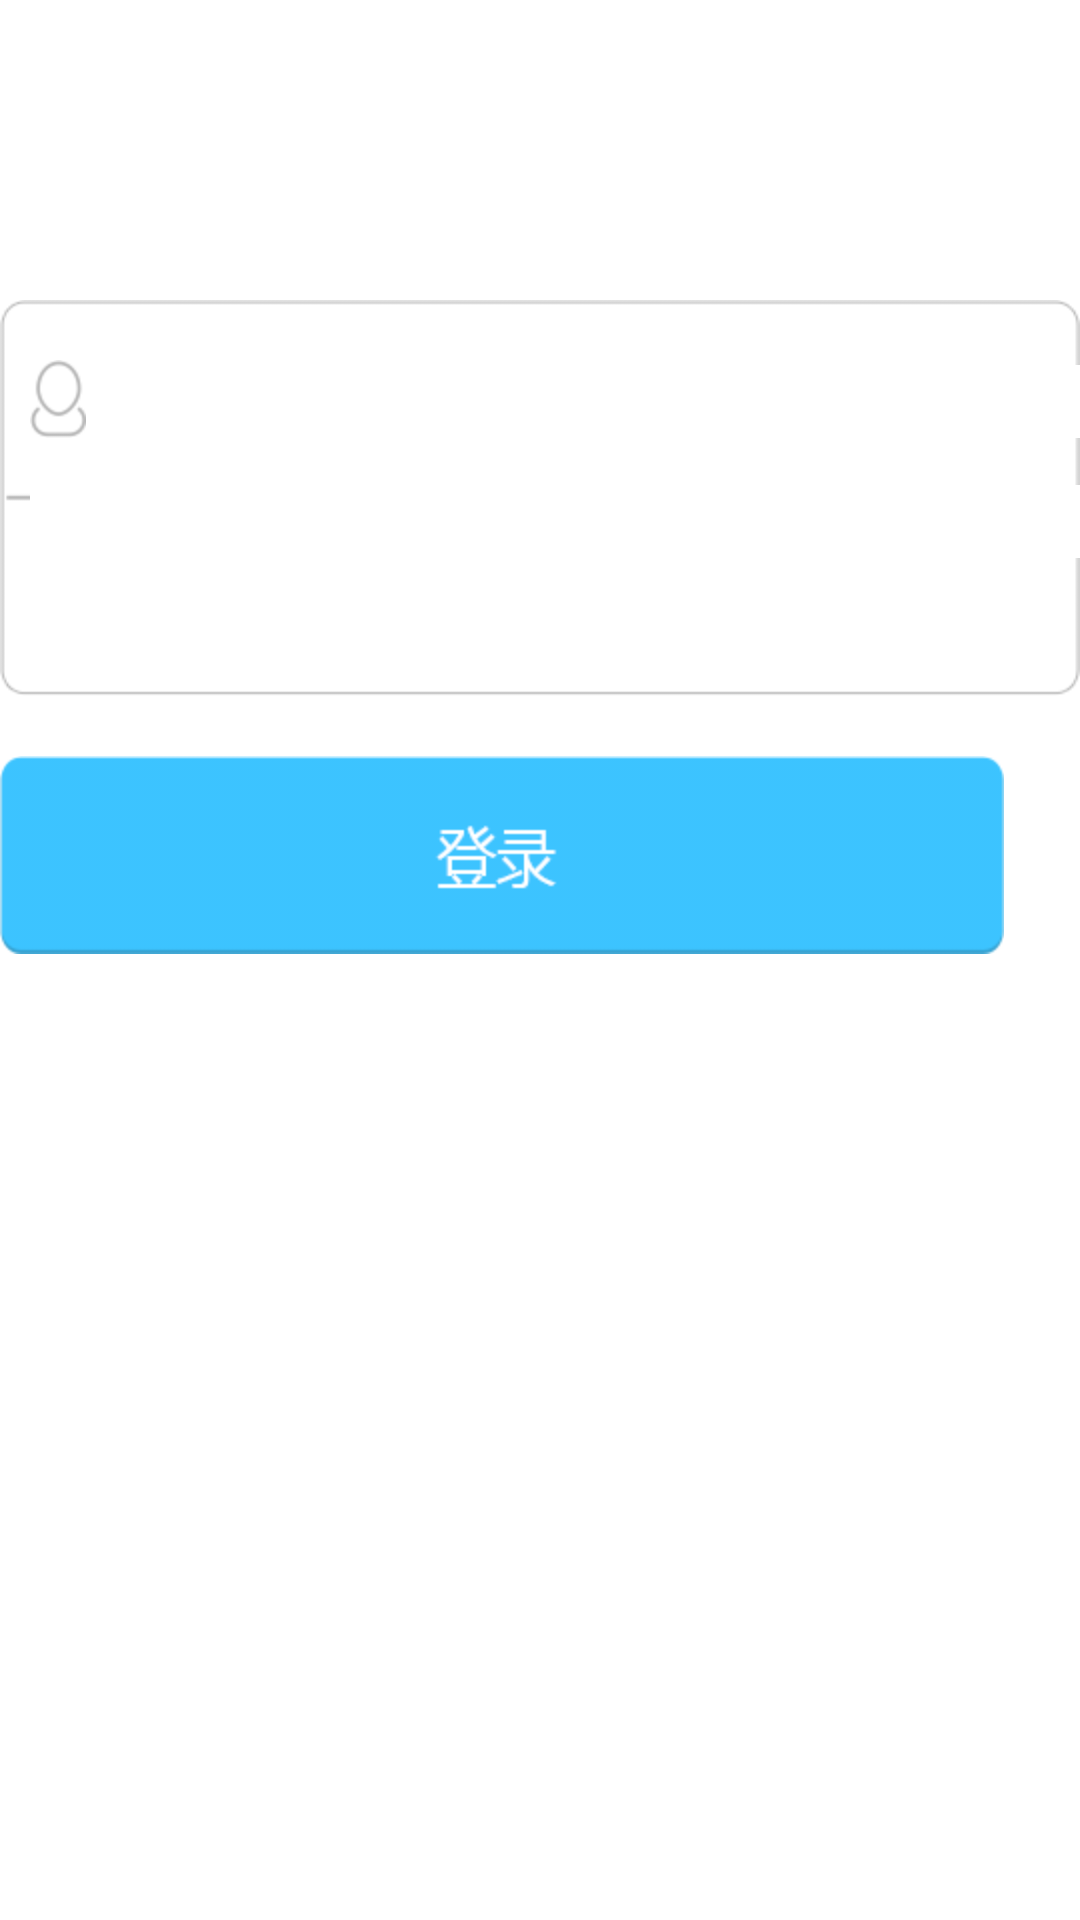

Locate icon controls on the screen. Image size 1080 x 1920, boxes as (x1, y1, x2, y2).
login user: (31, 361, 86, 437)
